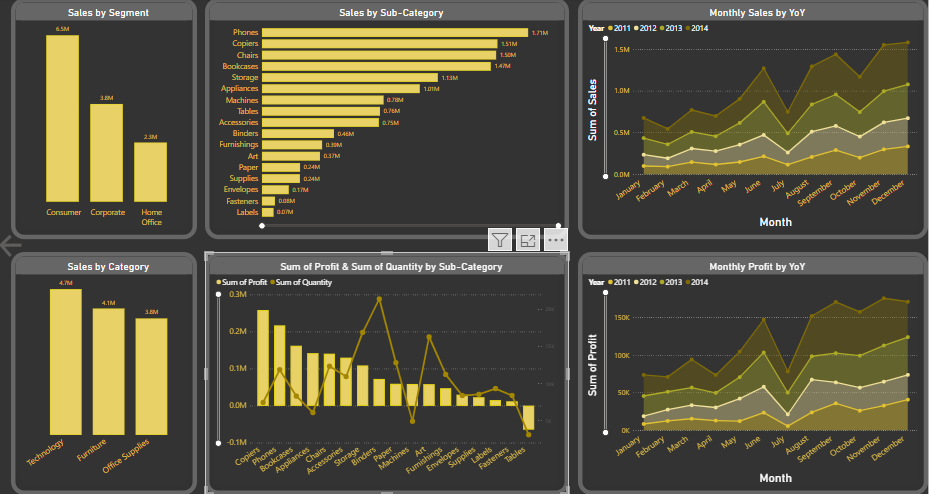

The dashboard page shown, as its layout file describes it:
{"tool":"powerbi","page":{"name":"Sales analysis 2","canvas":[2090,1116],"ordinal":2},"visuals":[{"type":"columnChart","title":"Sales by Category","fields":{"Y":["Sum(Orders.Sales)"],"Category":["Orders.Category"]},"box":[29.2,570.8,418,546.1],"z":0},{"type":"columnChart","title":"Sales by Segment","fields":{"Y":["Sum(Orders.Sales)"],"Category":["Orders.Segment"]},"box":[29.2,0,418,541.6],"z":1000},{"type":"clusteredBarChart","title":"Sales by Sub-Category","fields":{"Category":["Orders.Sub-Category"],"Y":["Sum(Orders.Sales)"]},"box":[465.2,0,818,541.6],"z":2000},{"type":"lineStackedColumnComboChart","title":"Sum of Profit & Sum of Quantity by Sub-Category","fields":{"Category":["Orders.Sub-Category"],"Y":["Sum(Orders.Profit)"],"Y2":["Sum(Orders.Quantity)"]},"box":[465.2,570.8,818,546.1],"z":3000},{"type":"stackedAreaChart","title":"Monthly Sales by YoY","fields":{"Y":["Sum(Orders.Sales)"],"Series":["Orders.Order Date.Variation.Date Hierarchy.Year"],"Category":["Orders.Order Date.Variation.Date Hierarchy.Month","Orders.Order Date.Variation.Date Hierarchy.Day"]},"box":[1303.4,0,786.6,541.6],"z":4000},{"type":"stackedAreaChart","title":"Monthly Profit by YoY","fields":{"Series":["Orders.Order Date.Variation.Date Hierarchy.Year"],"Category":["Orders.Order Date.Variation.Date Hierarchy.Month","Orders.Order Date.Variation.Date Hierarchy.Day"],"Y":["Sum(Orders.Profit)"]},"box":[1303.4,570.8,786.6,546.1],"z":5000},{"type":"actionButton","box":[0,492.2,89.9,130.3],"z":7000}]}

Visuals, with their boxes in screenshot pixels (x1, y1, x2, y2), scaled from the page's 2090x1116 canvas onto the 929x494 screenshot:
"Sales by Category" columnChart: left=13, top=253, right=199, bottom=493
"Sales by Segment" columnChart: left=13, top=0, right=199, bottom=240
"Sales by Sub-Category" clusteredBarChart: left=207, top=0, right=570, bottom=240
"Sum of Profit & Sum of Quantity by Sub-Category" lineStackedColumnComboChart: left=207, top=253, right=570, bottom=493
"Monthly Sales by YoY" stackedAreaChart: left=579, top=0, right=928, bottom=240
"Monthly Profit by YoY" stackedAreaChart: left=579, top=253, right=928, bottom=493
actionButton: left=0, top=218, right=40, bottom=276
